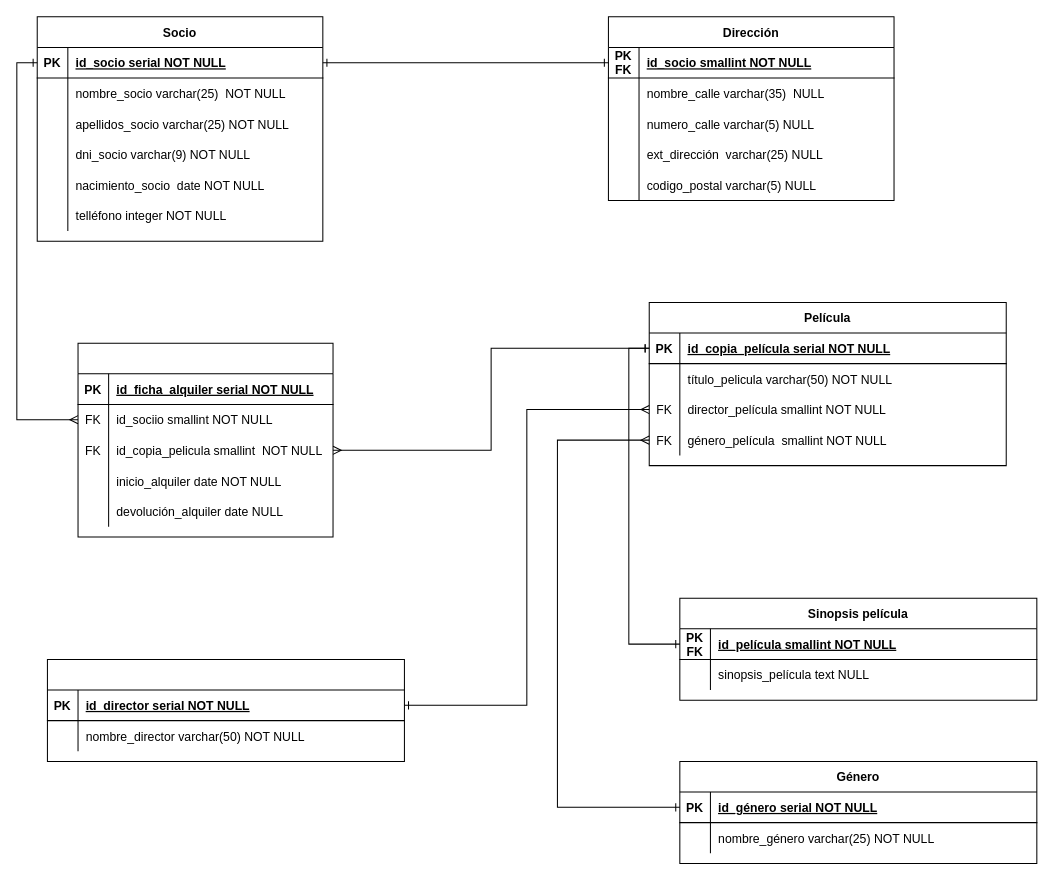
Image size: 1054x880. Some labels were removed from this diagram. Each missing label, with the box of its shape:
Director película: (46, 658, 404, 761)
Registro_alquileres: (77, 342, 333, 537)
